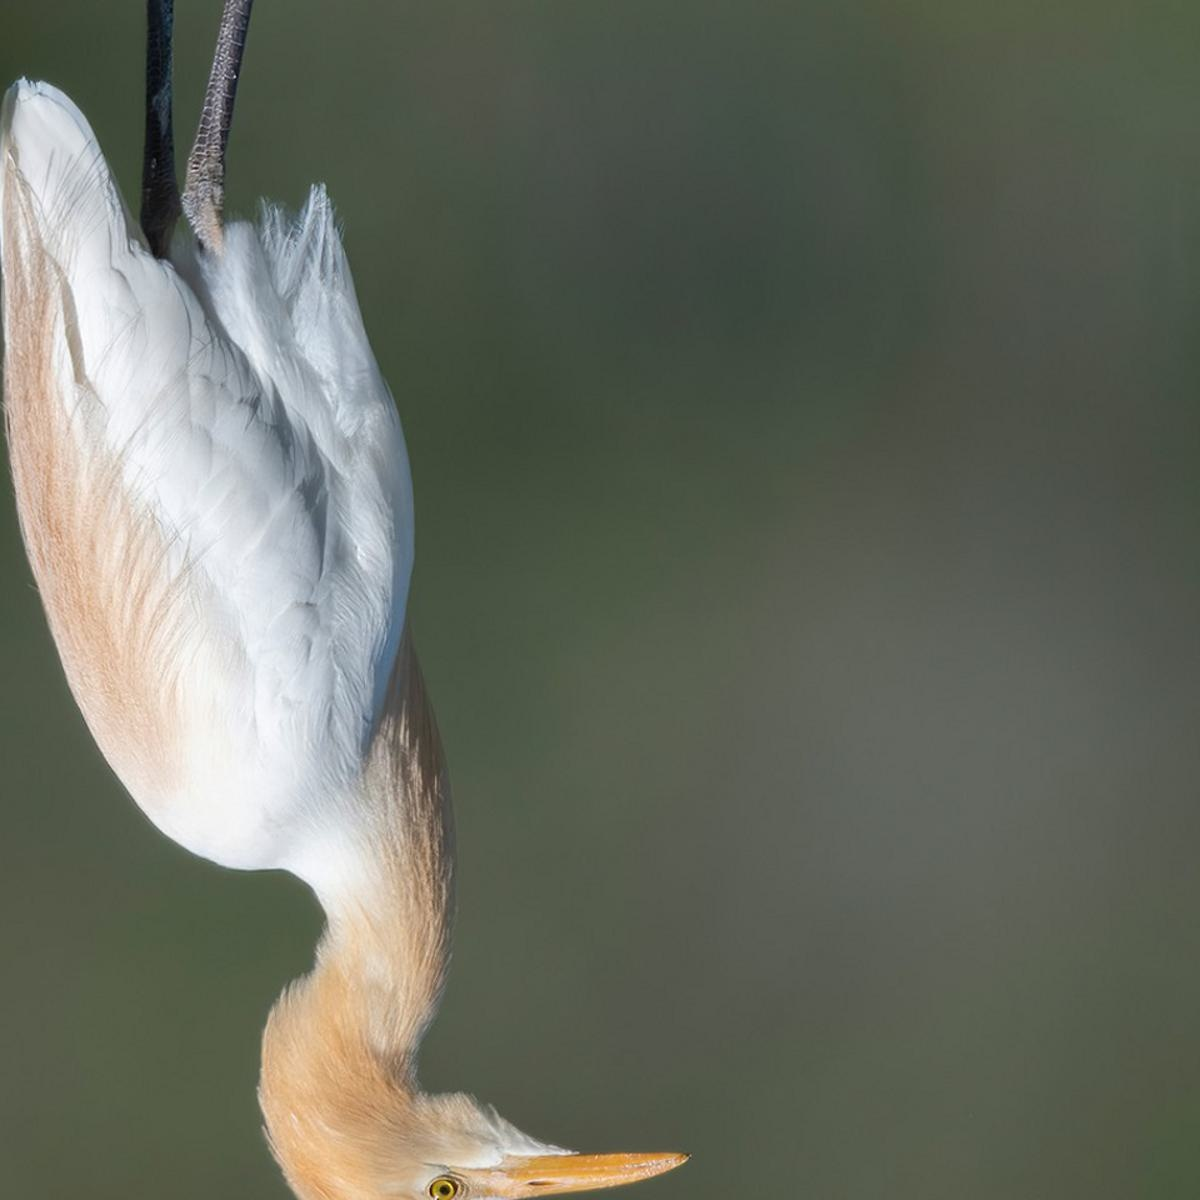egret: (7, 86, 701, 1195)
